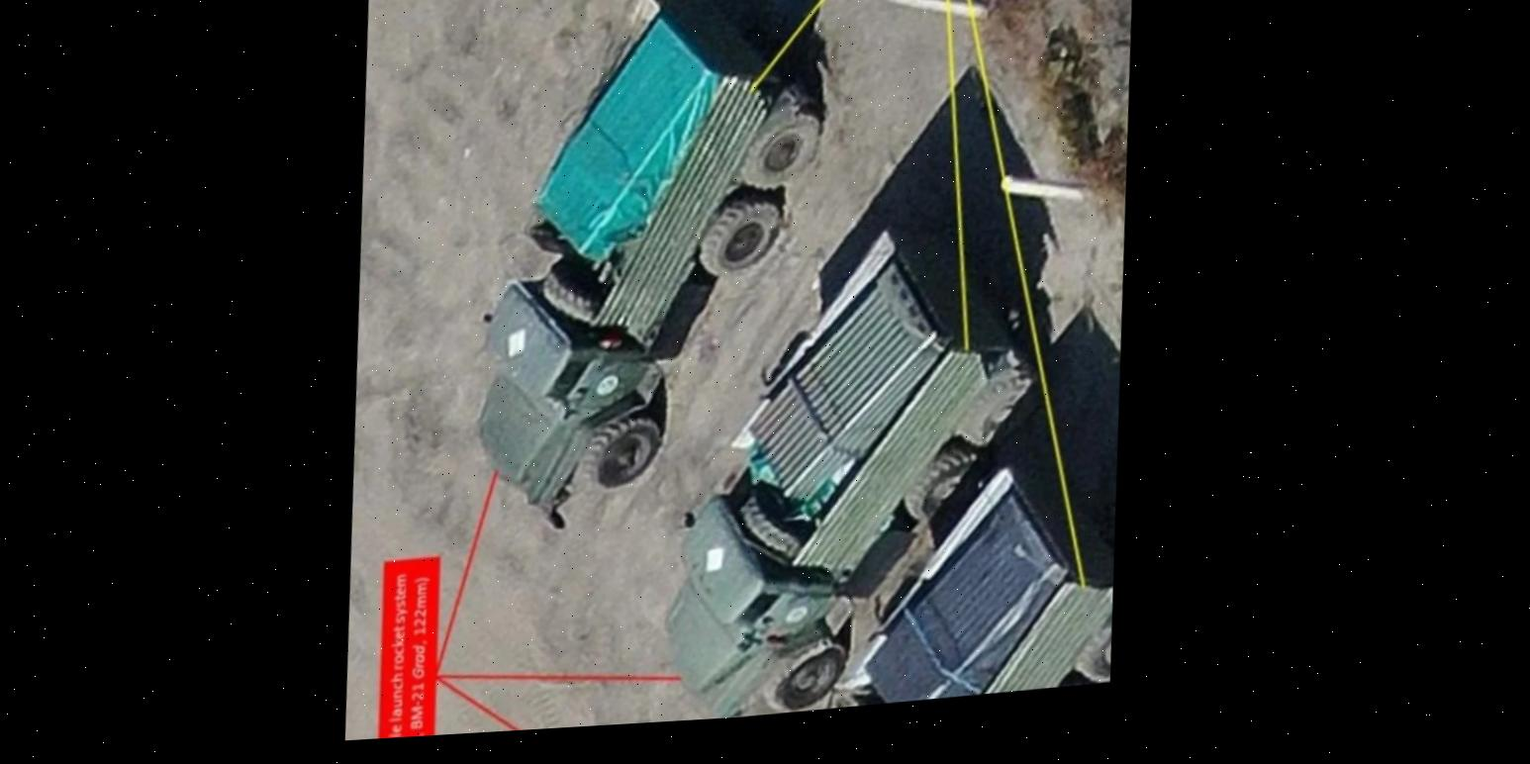truck: (648, 200, 1063, 723), (448, 0, 846, 524), (773, 448, 1125, 713)
